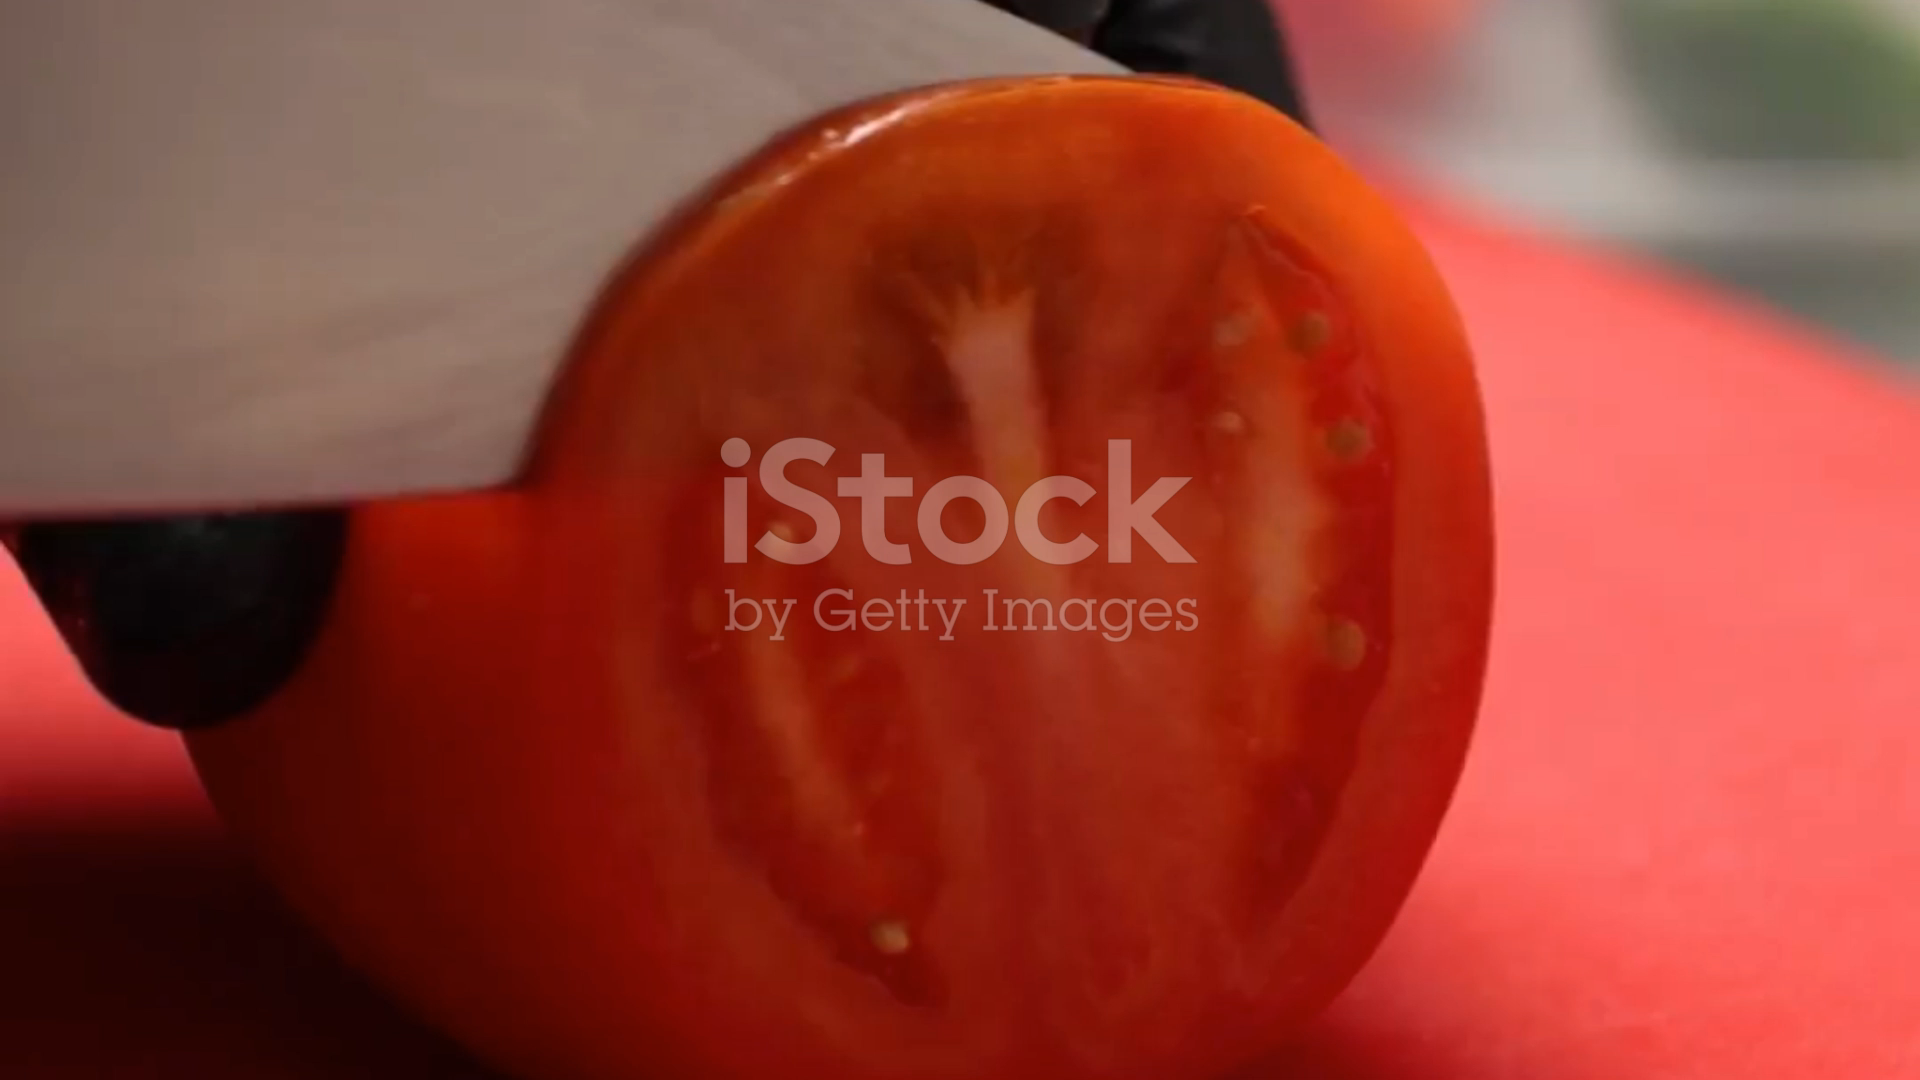cortante: (0, 0, 1138, 514)
